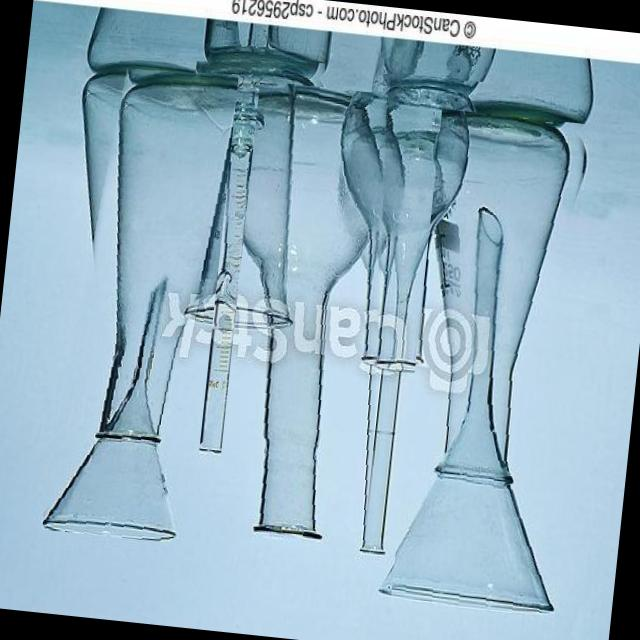Glass: (389, 108, 603, 616), (34, 55, 237, 543), (211, 80, 416, 548), (168, 48, 334, 337), (342, 69, 492, 378)
